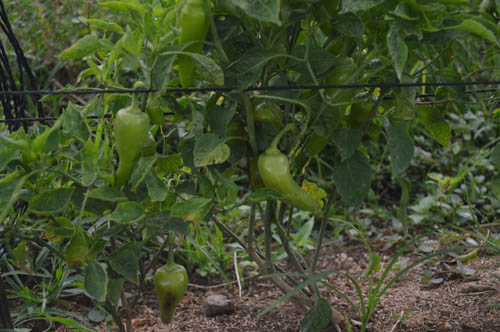ChiliPepper: (257, 155, 323, 211), (111, 108, 151, 185), (177, 5, 208, 92), (152, 267, 189, 326)
